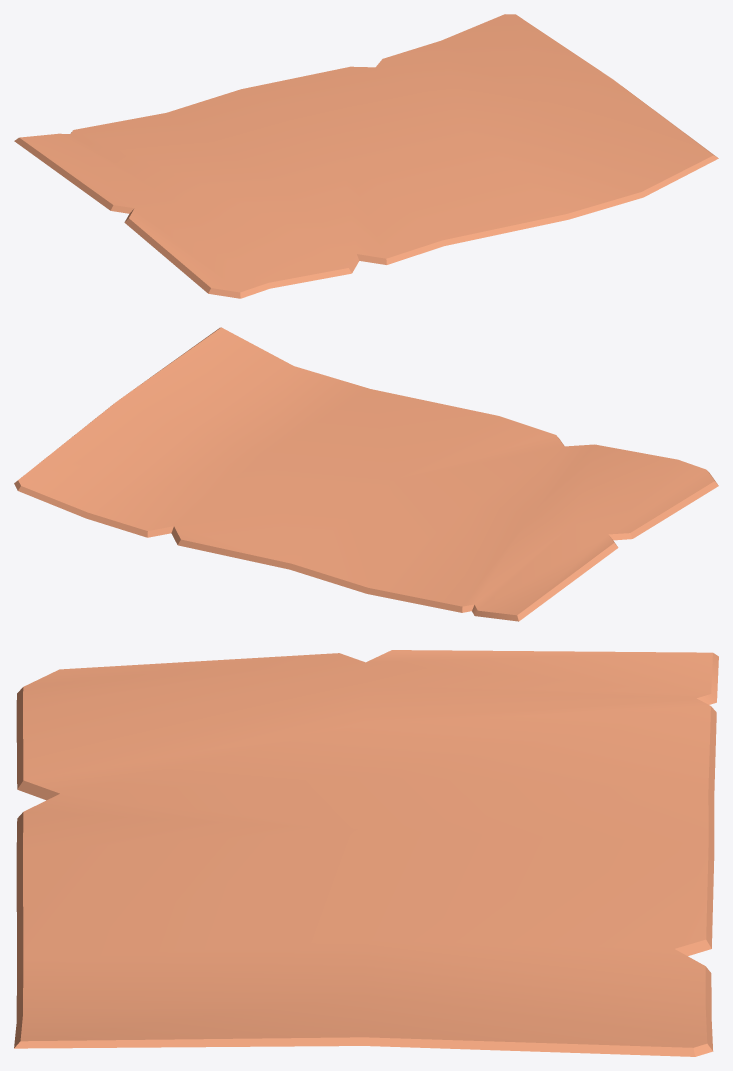
Rendered from CleaningRoom_Tablecloth.fbx.
3 views of the same model, one above another, from view 1: azimuth 30°, elevation 25°; view 2: azimuth 150°, elevation 25°; view 3: azimuth 270°, elevation 25° (orthographic). The views are drawn at different scales.
Visible parts, largest first — view 1: Cloth; view 2: Cloth; view 3: Cloth.
Part boxes in pixels (x1,y1,x2,y2): Cloth: [14, 14, 718, 298]; Cloth: [14, 327, 718, 621]; Cloth: [14, 650, 718, 1056].
Size of the model in its own units: 357 by 21.57 by 257.
